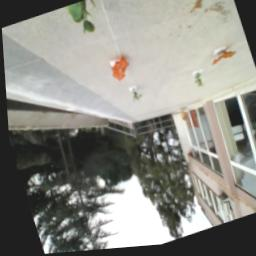herb: (66, 1, 105, 43), (192, 75, 205, 94), (129, 90, 143, 107)
wild: (107, 57, 134, 87), (208, 52, 239, 71)
